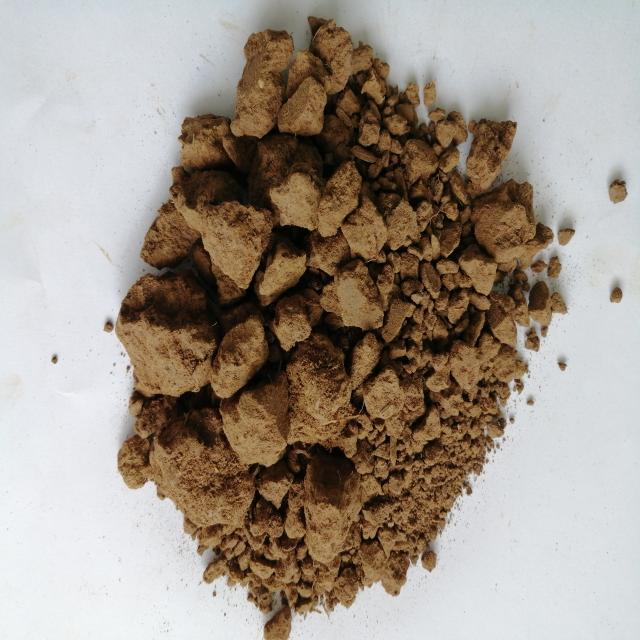soil: (174, 132, 495, 540)
